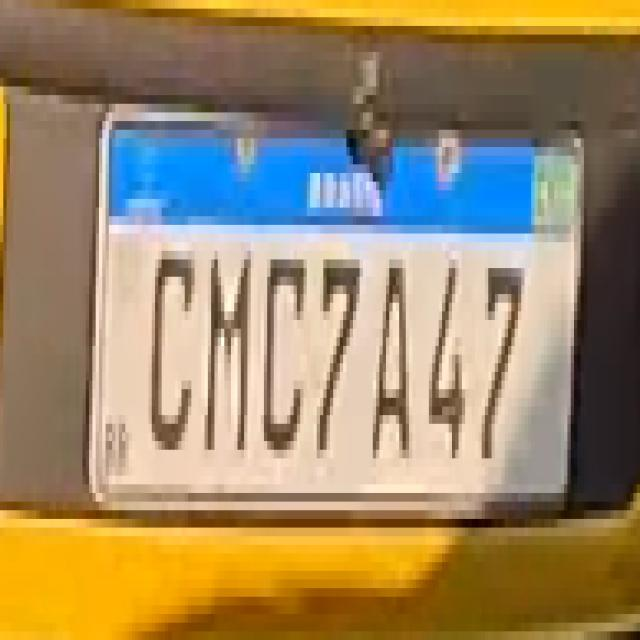Placa_mercosul_carro: (88, 97, 586, 519)
